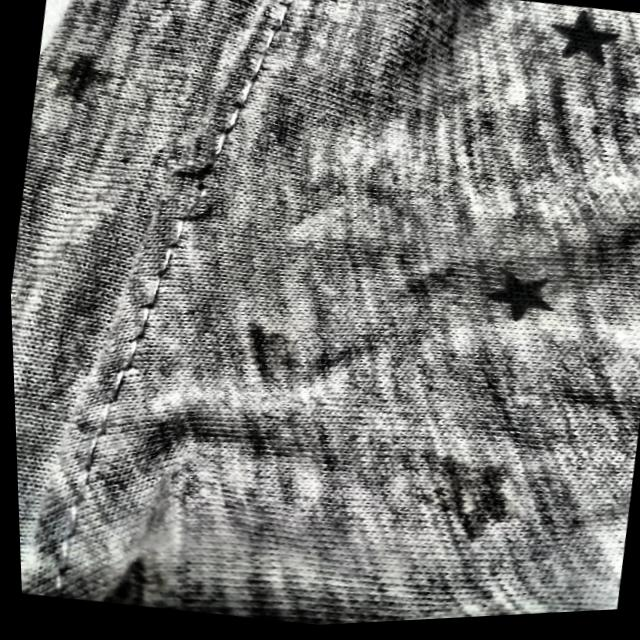Stitch: (122, 104, 248, 274)
